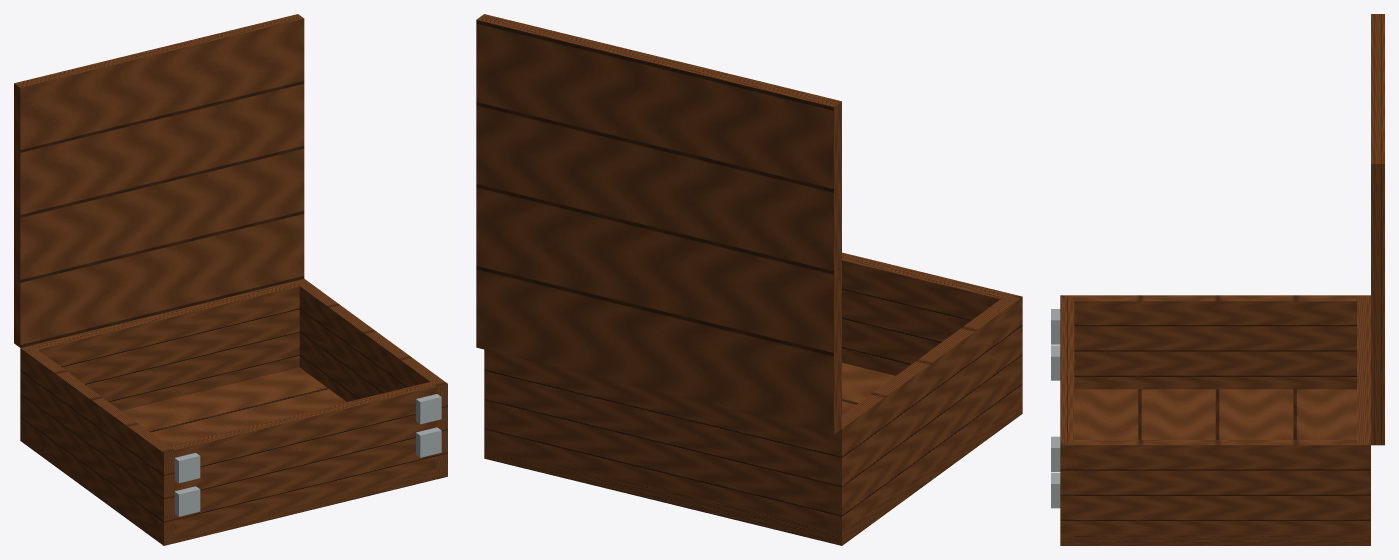
The model's file is suburban-outbreak-interiors-underbed-storage-box-415988fd__19958.glb.
3 renders of one model, left to right at view 1: azimuth 30°, elevation 25°; view 2: azimuth 150°, elevation 25°; view 3: azimuth 270°, elevation 25°, orthographic. The views are drawn at different scales.
Parts seen in each view (by area): view 1: underbed-storage-box, chest-lid/wood; view 2: chest-lid/wood, underbed-storage-box; view 3: underbed-storage-box, chest-lid/wood.
Boxes of the visible parts, x1,y1,x2,y2 form: underbed-storage-box: [20, 279, 447, 545]; chest-lid/wood: [14, 14, 304, 347]; chest-lid/wood: [476, 14, 841, 434]; underbed-storage-box: [484, 252, 1022, 545]; underbed-storage-box: [1051, 295, 1370, 545]; chest-lid/wood: [1371, 14, 1384, 445].
Size of the model in its own units: 0.8 by 0.95 by 0.7523.
Materials: 2 (1 with a texture image).
